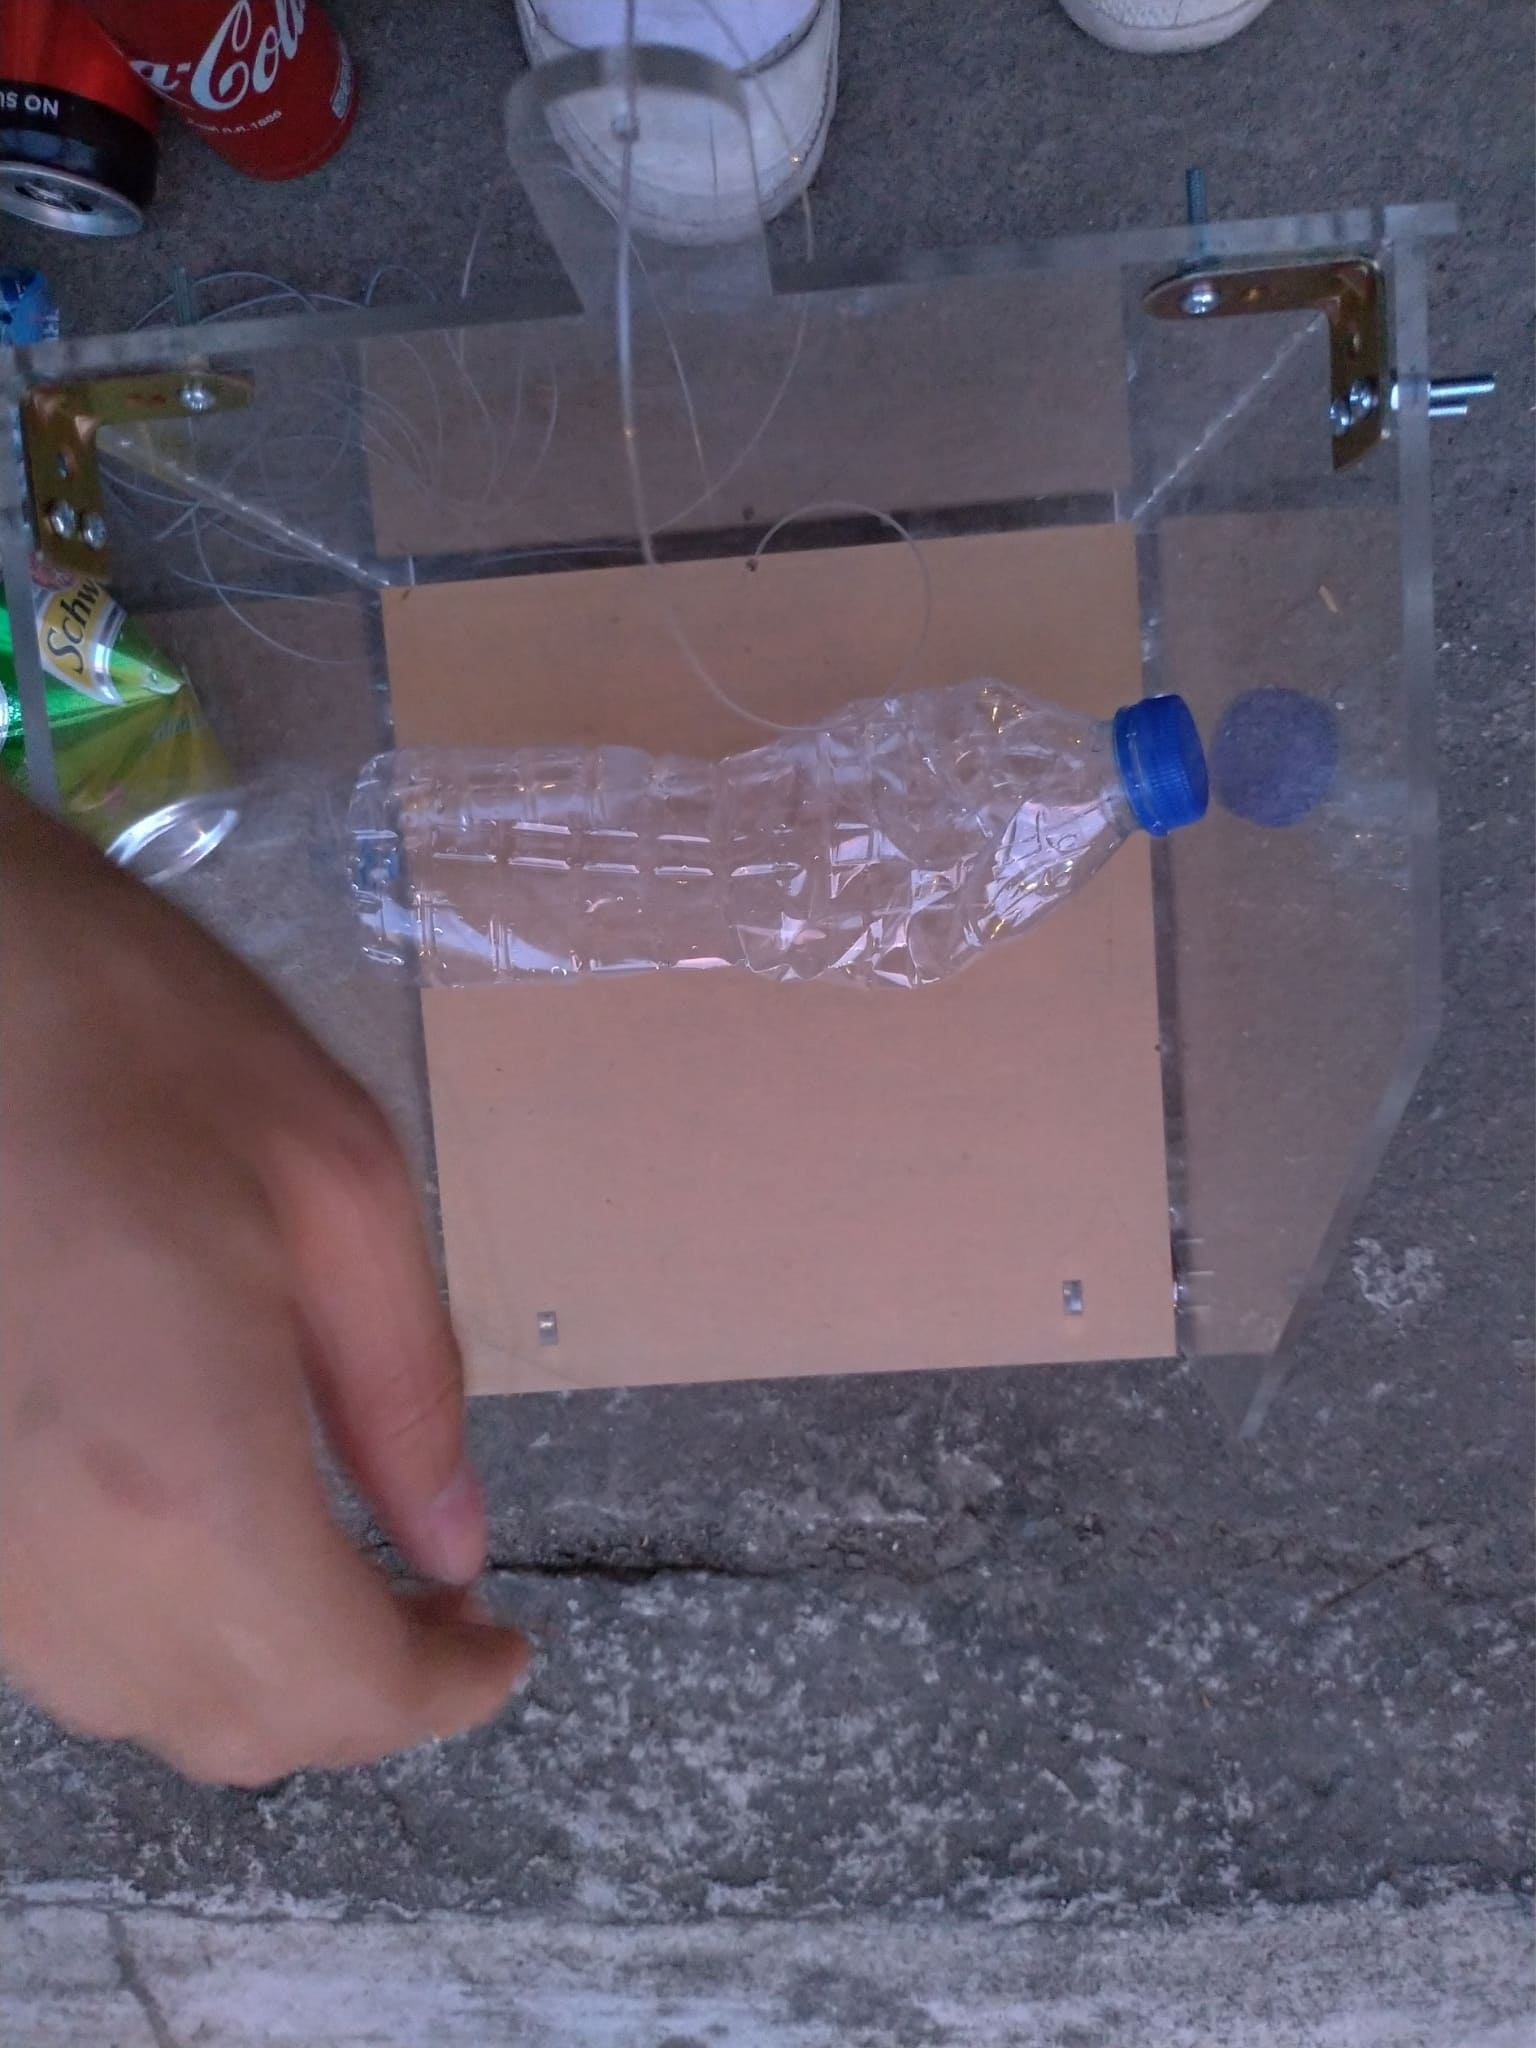AlCan: (2, 564, 244, 890), (102, 2, 369, 181), (2, 2, 153, 252)
PlasticBottle: (350, 684, 1215, 987)
